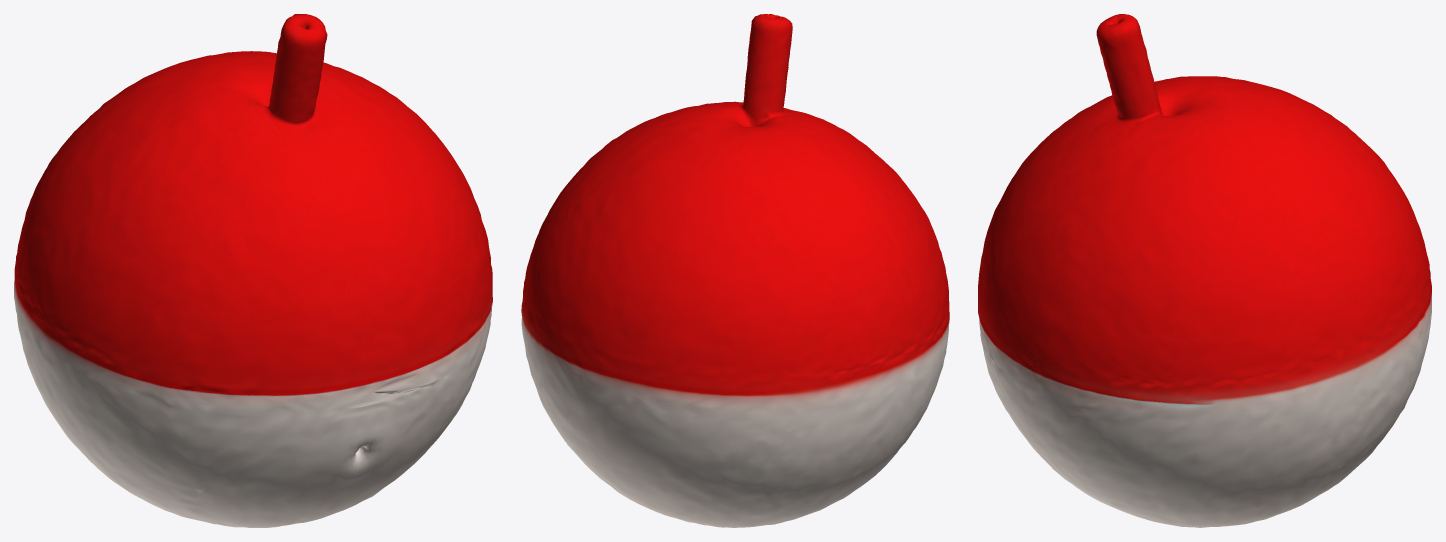
File: fishing_bobber.glb
The picture shows the model from 3 angles, left to right: view 1: azimuth 30°, elevation 25°; view 2: azimuth 150°, elevation 25°; view 3: azimuth 270°, elevation 25°; orthographic projection. The views are drawn at different scales.
Visible parts, largest first — view 1: tripo_node_3caf4d65-1e9c-4026-abdb-e95c4417e249; view 2: tripo_node_3caf4d65-1e9c-4026-abdb-e95c4417e249; view 3: tripo_node_3caf4d65-1e9c-4026-abdb-e95c4417e249.
Part boxes in pixels (x1,y1,x2,y2): tripo_node_3caf4d65-1e9c-4026-abdb-e95c4417e249: [14, 14, 492, 527]; tripo_node_3caf4d65-1e9c-4026-abdb-e95c4417e249: [521, 14, 949, 527]; tripo_node_3caf4d65-1e9c-4026-abdb-e95c4417e249: [978, 14, 1431, 527].
Bounding box in the file's own units: 0.8206 × 0.9775 × 0.8207.
1 material, 1 textured.
